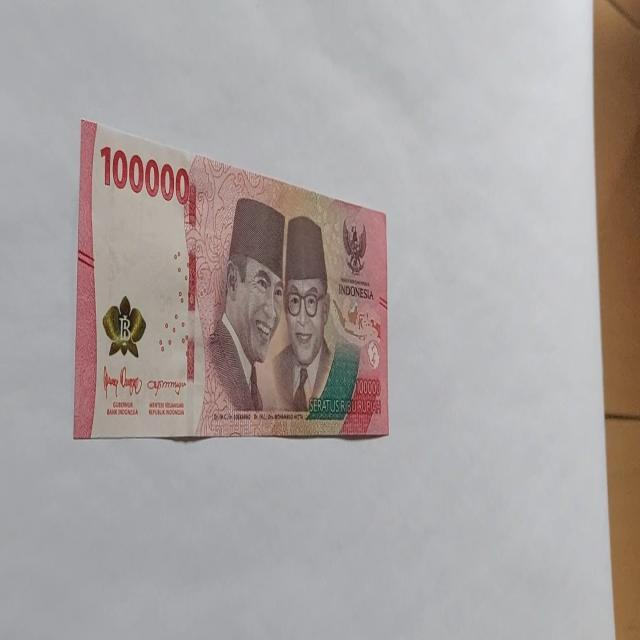seratus ribu rupiah: (73, 117, 390, 442)
